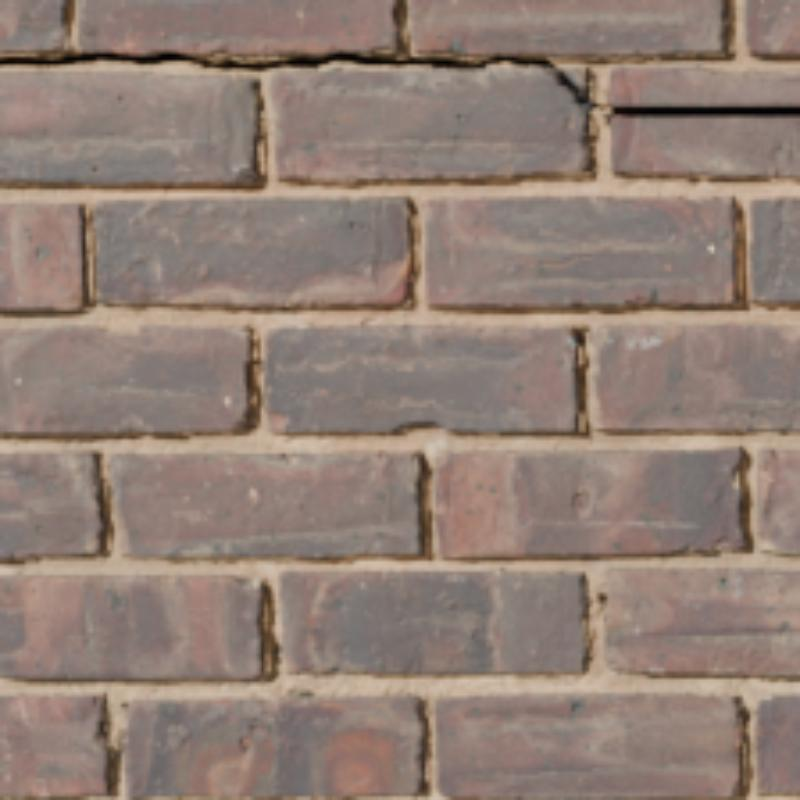pothole: (0, 50, 796, 114)
